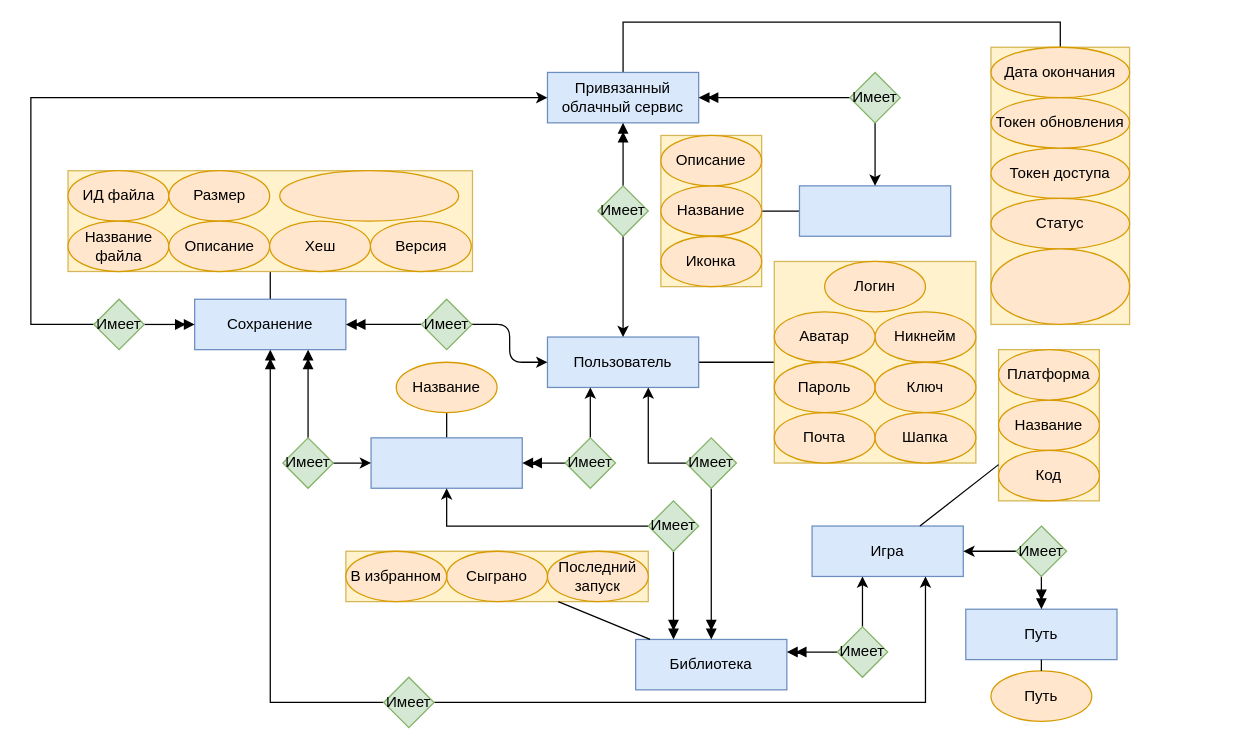
This 1252x750 diagram has some shape labels left out. The shapes that lost their labels are listed below. From the top down, each one's box as (x1, y1, x2, y2) in pixels, then its label:
(278, 169, 459, 221): Дата последней синхронизации
(798, 185, 951, 236): Облачный сервис
(990, 248, 1130, 324): Внешний идентификатор пользователя
(370, 437, 522, 488): Сторонняя игра
